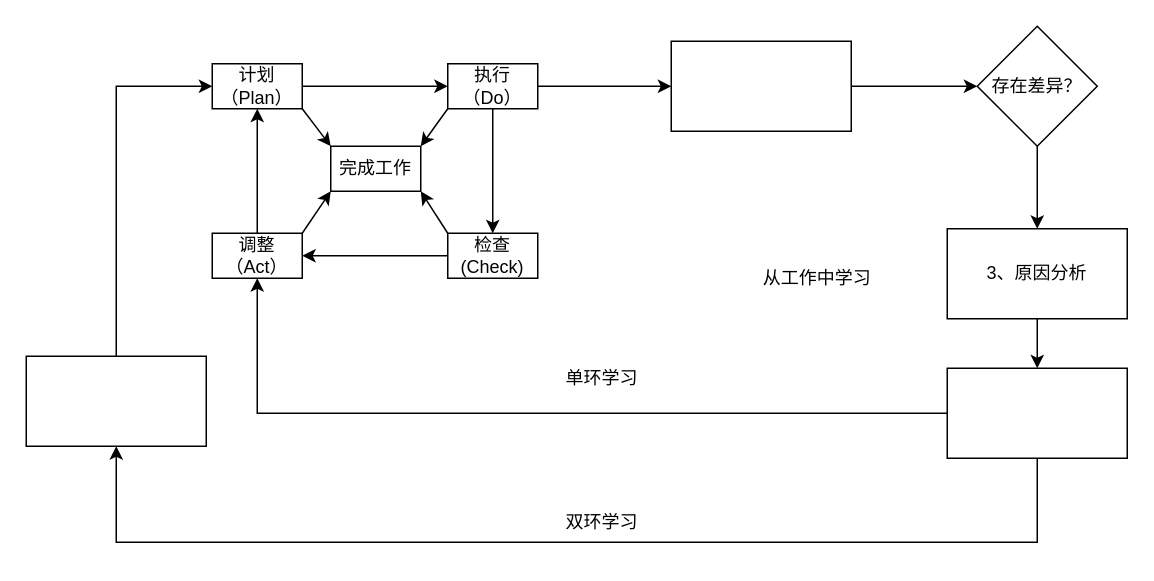
This 1154x581 diagram has some shape labels left out. The centre of each missing label's shape, as x and y in pixels:
"1、预期目标" belongs at pixel 115 400.
"2、实际工作" belongs at pixel 760 85.
"4、学到经验" belongs at pixel 1036 412.
